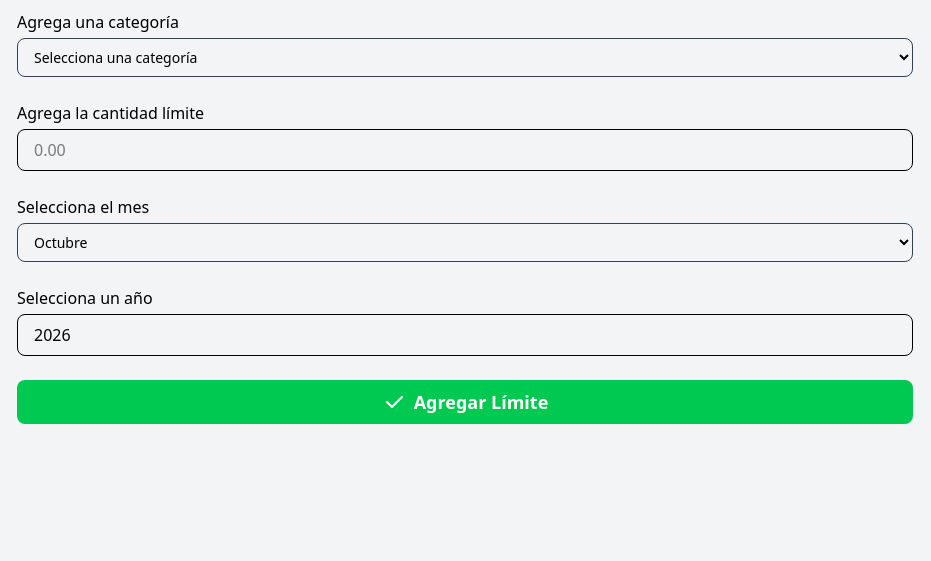
FormAddExpenseLimit Test › Errores de validación › Debe mostrar error de validación si el monto es 0
Type "0" into the number field with test id "label-limit" at (465, 150), box x1=17 y1=129 x2=913 y2=171
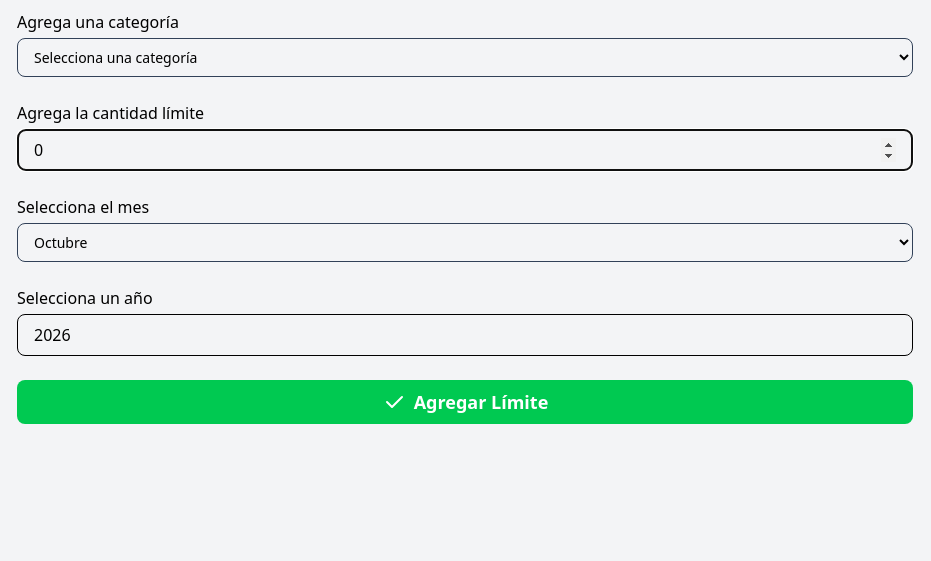
Click the button "Agregar Límite" at (465, 402), box x1=17 y1=380 x2=913 y2=424
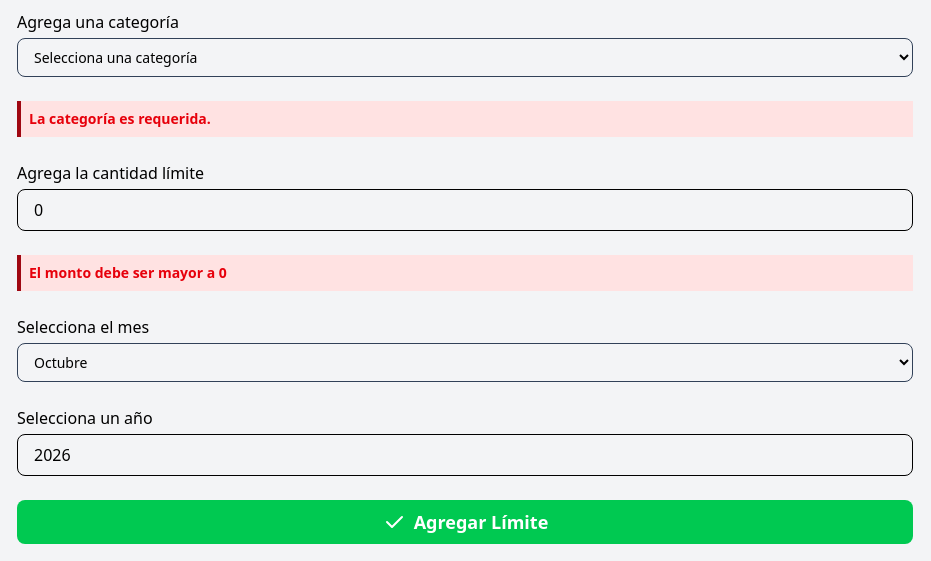
Now the text "El monto debe ser mayor a 0" is shown, box x1=17 y1=255 x2=913 y2=291
